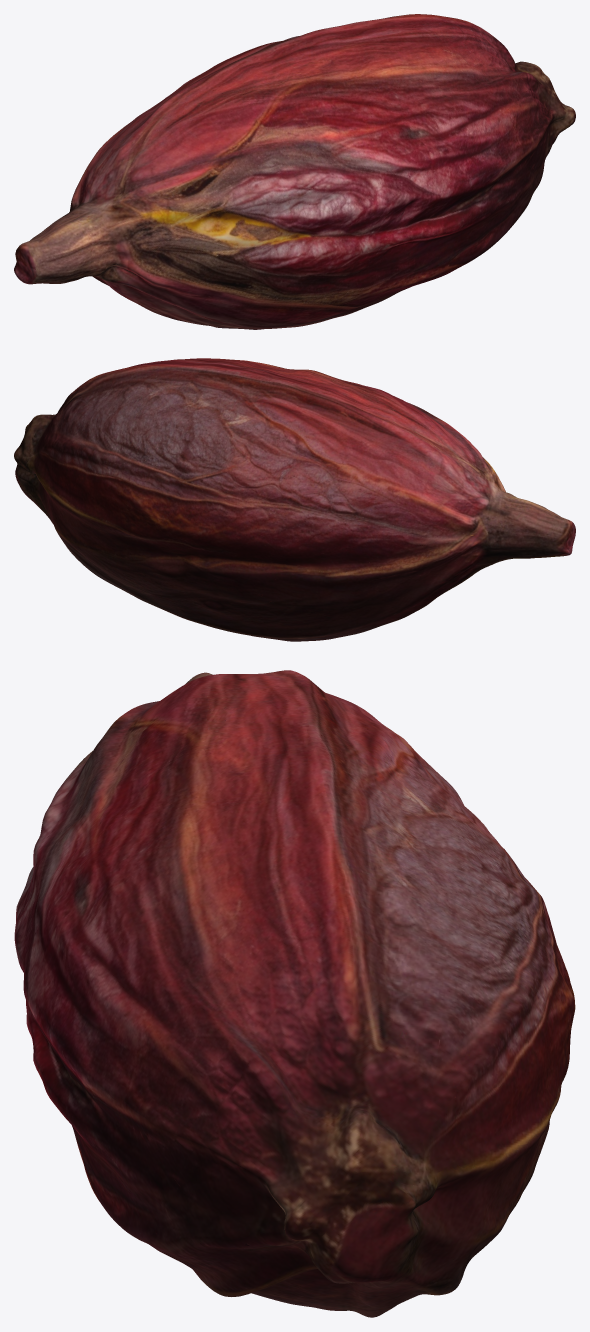
The model's file is Cacao.fbx.
The picture shows the model from 3 angles, top to bottom: view 1: azimuth 30°, elevation 25°; view 2: azimuth 150°, elevation 25°; view 3: azimuth 270°, elevation 25°; orthographic projection. The views are drawn at different scales.
Parts seen in each view (by area): view 1: Object_2; view 2: Object_2; view 3: Object_2.
Boxes of the visible parts, x1,y1,x2,y2 form: Object_2: (14,14,575,329); Object_2: (14,358,575,641); Object_2: (14,670,575,1317).
Size of the model in its own units: 199 by 91.41 by 93.15.
1 material, 1 textured.
